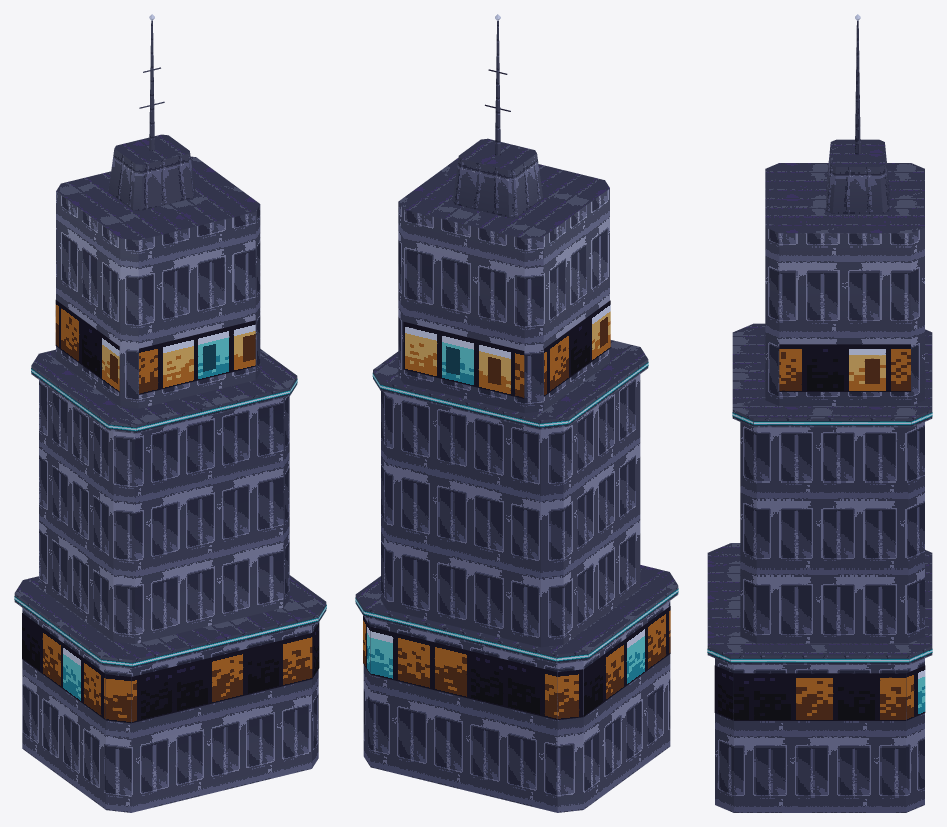
The model's file is cytower.setback.glb.
The picture shows the model from 3 angles, left to right: view 1: azimuth 30°, elevation 25°; view 2: azimuth 150°, elevation 25°; view 3: azimuth 270°, elevation 25°; orthographic projection. The views are drawn at different scales.
Parts seen in each view (by area): view 1: kit_tower, kit_card_windows, kit_crown; view 2: kit_tower, kit_card_windows, kit_crown; view 3: kit_tower, kit_card_windows, kit_crown.
Boxes of the visible parts, x1,y1,x2,y2 form: kit_tower: (14, 134, 326, 812); kit_card_windows: (14, 300, 326, 723); kit_crown: (139, 14, 164, 150); kit_tower: (355, 138, 678, 812); kit_card_windows: (355, 300, 678, 719); kit_crown: (485, 14, 510, 155); kit_tower: (707, 139, 932, 812); kit_card_windows: (707, 344, 932, 720); kit_crown: (855, 14, 860, 154).
Bounding box in the file's own units: 12.75 × 39.17 × 10.75.
7 materials, 7 textured.
